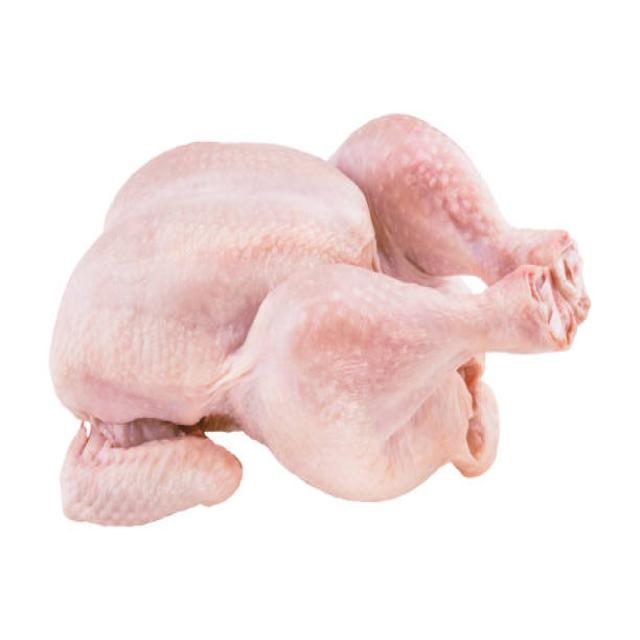Chicken: (36, 96, 598, 540)
